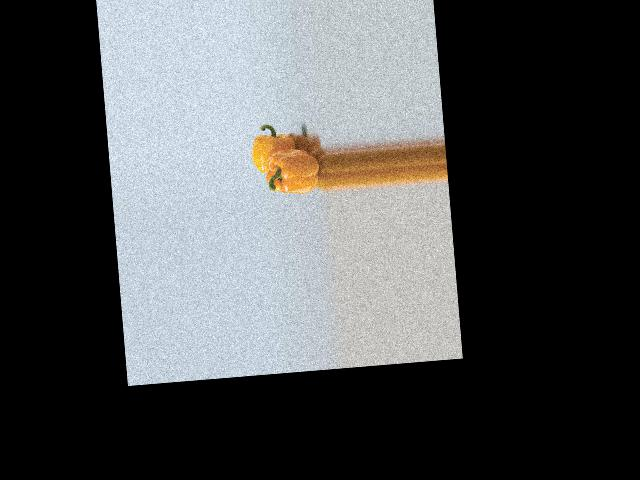bell_pepper: (249, 122, 305, 175)
